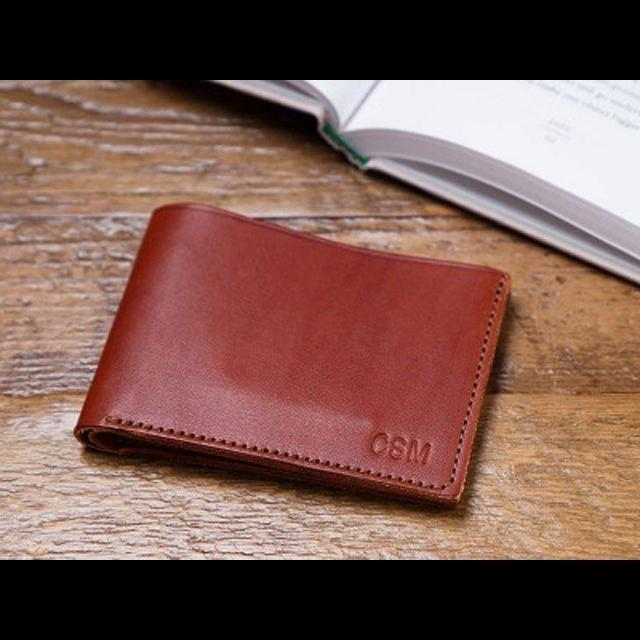Wallet: (70, 199, 512, 506)
